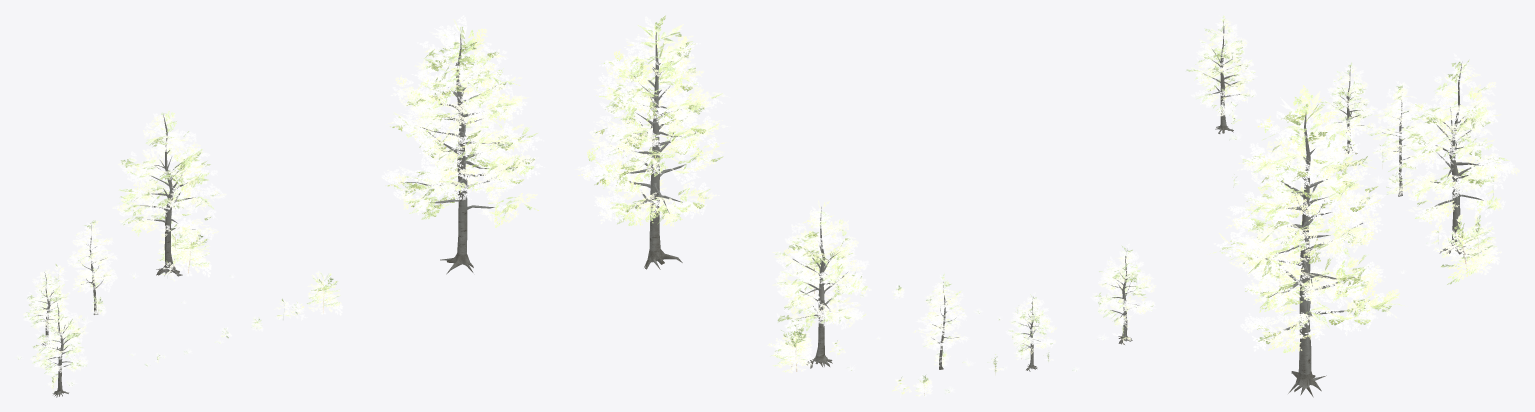
Rendered from VegetacaoPerto.glb.
3 renders of one model, left to right at view 1: azimuth 30°, elevation 25°; view 2: azimuth 150°, elevation 25°; view 3: azimuth 270°, elevation 25°, orthographic. The views are drawn at different scales.
Parts seen in each view (by area): view 1: BeechTree04_LOD2.001, BeechTree03_LOD2.001, BeechTree03_LOD2.003, BeechTree02_LOD2.001, BeechTree03_LOD2.002, ForestBlackCherry02_LOD1.002, ForestBlackCherry02_LOD1.001, ForestBlackCherry02_LOD1.003; view 2: BeechTree04_LOD2.001, BeechTree03_LOD2.001, BeechTree03_LOD2.003, BeechTree02_LOD2.001, BeechTree03_LOD2.002, ForestBlackCherry02_LOD1.003, ForestBlackCherry02_LOD1.002; view 3: BeechTree04_LOD2.001, BeechTree03_LOD2.001, BeechTree03_LOD2.003, BeechTree02_LOD2.001, BeechTree03_LOD2.002, ForestBlackCherry02_LOD1.002, ForestBlackCherry02_LOD1.003, ForestBlackCherry02_LOD1.001.
Boxes of the visible parts, x1,y1,x2,y2 form: BeechTree04_LOD2.001: (381,15,544,274); BeechTree03_LOD2.001: (112,111,226,276); BeechTree03_LOD2.003: (30,298,88,397); BeechTree02_LOD2.001: (67,220,118,314); BeechTree03_LOD2.002: (23,269,70,345); ForestBlackCherry02_LOD1.002: (171,229,211,277); ForestBlackCherry02_LOD1.001: (306,271,343,315); ForestBlackCherry02_LOD1.003: (157,227,193,269); BeechTree04_LOD2.001: (575,15,730,269); BeechTree03_LOD2.001: (772,200,869,368); BeechTree03_LOD2.003: (1090,243,1156,344); BeechTree02_LOD2.001: (913,273,969,369); BeechTree03_LOD2.002: (1005,292,1056,371); ForestBlackCherry02_LOD1.003: (774,329,814,373); ForestBlackCherry02_LOD1.002: (767,320,811,368); BeechTree04_LOD2.001: (1210,85,1404,397); BeechTree03_LOD2.001: (1394,53,1519,257); BeechTree03_LOD2.003: (1186,15,1257,133); BeechTree02_LOD2.001: (1366,81,1435,196); BeechTree03_LOD2.002: (1320,61,1377,154); ForestBlackCherry02_LOD1.002: (1433,214,1492,284); ForestBlackCherry02_LOD1.003: (1451,212,1501,273); ForestBlackCherry02_LOD1.001: (1253,258,1299,309).
Size of the model in its own units: 39.22 by 17.99 by 17.7.
Materials: 5 (5 with a texture image).
